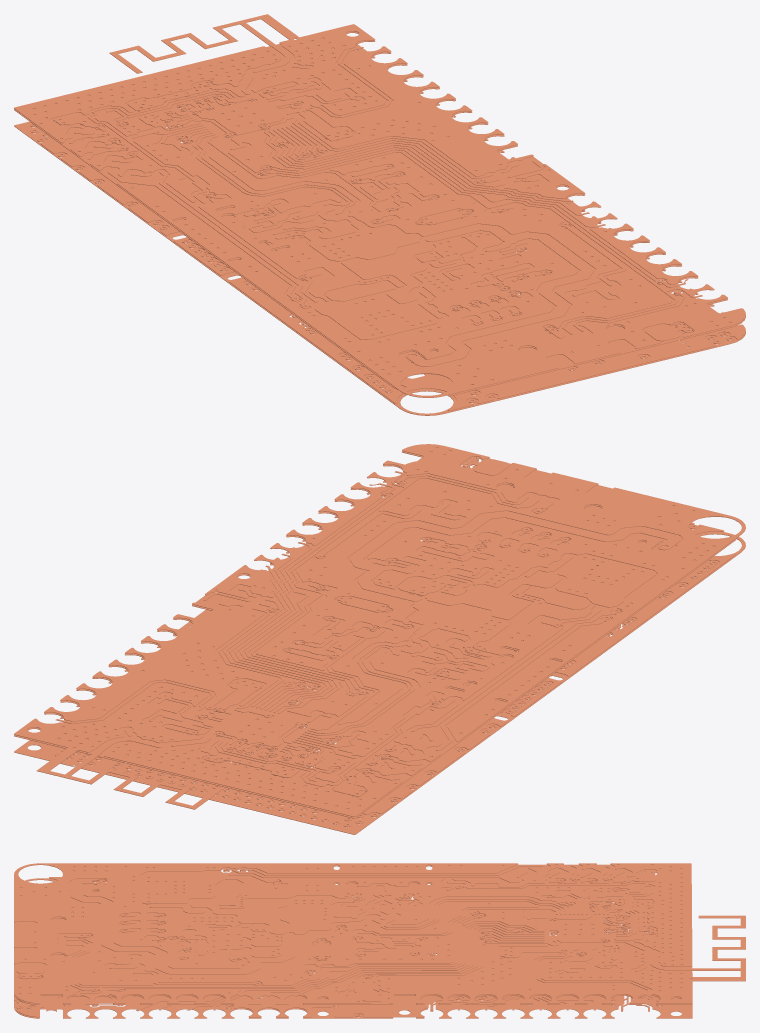
Rendered from board_copper.obj.
3 renders of one model, top to bottom at view 1: azimuth 30°, elevation 25°; view 2: azimuth 150°, elevation 25°; view 3: azimuth 270°, elevation 25°, orthographic. The views are drawn at different scales.
Visible parts, largest first — view 1: =>[0:1:1:25]; view 2: =>[0:1:1:25]; view 3: =>[0:1:1:25].
Part boxes in pixels (left/top/right/bottom): =>[0:1:1:25]: left=14, top=14, right=745, bottom=415; =>[0:1:1:25]: left=14, top=444, right=745, bottom=834; =>[0:1:1:25]: left=14, top=863, right=745, bottom=1018.
Bounding box in the file's own units: 0.31 × 0.0158 × 0.6843.
